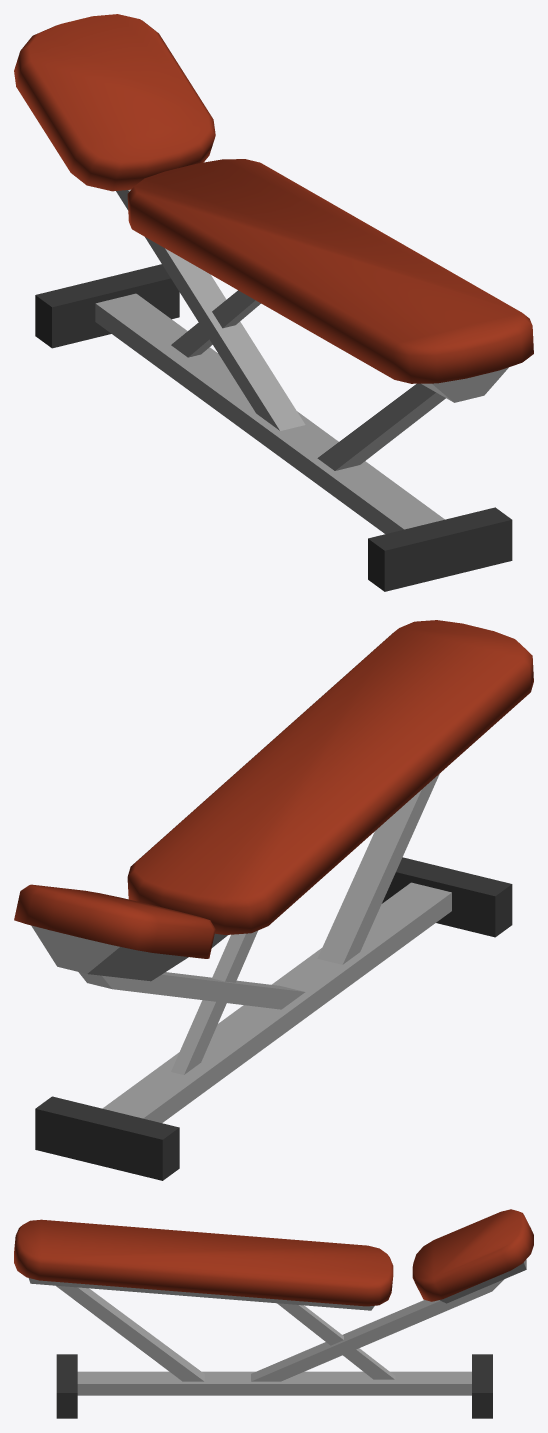
Rendered from bench-c.glb.
The picture shows the model from 3 angles, top to bottom: view 1: azimuth 30°, elevation 25°; view 2: azimuth 150°, elevation 25°; view 3: azimuth 270°, elevation 25°; orthographic projection. The views are drawn at different scales.
Parts seen in each view (by area): view 1: Bench_C; view 2: Bench_C; view 3: Bench_C.
Boxes of the visible parts, bbox=[...] form: Bench_C: bbox=[14, 14, 533, 591]; Bench_C: bbox=[14, 620, 533, 1180]; Bench_C: bbox=[14, 1209, 533, 1418].
Size of the model in its own units: 32.96 by 65.5 by 174.
Materials: 1 (1 with a texture image).
